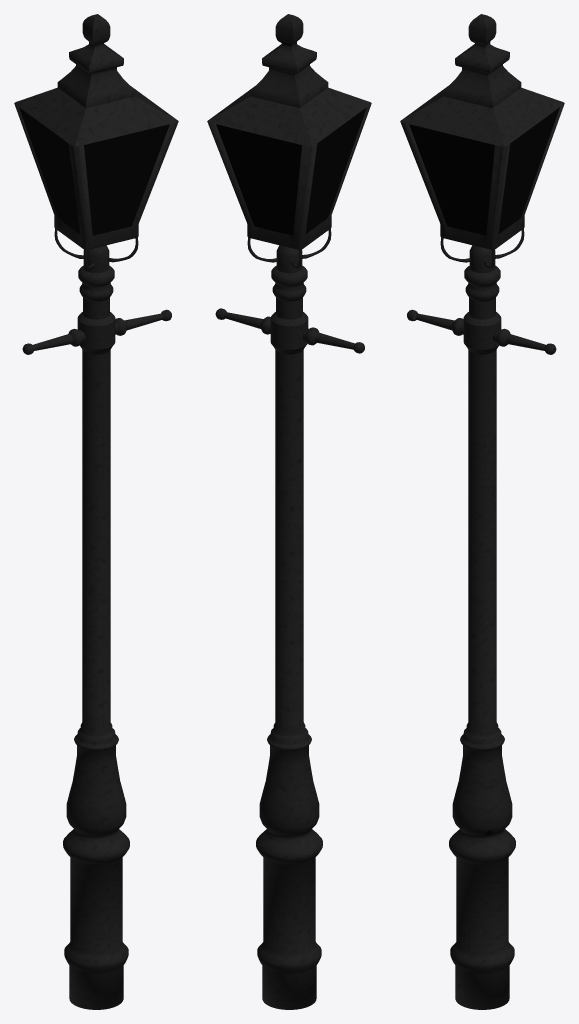
Rendered from lamp.obj.
3 renders of one model, left to right at view 1: azimuth 30°, elevation 25°; view 2: azimuth 150°, elevation 25°; view 3: azimuth 330°, elevation 25°, orthographic.
Visible parts, largest first — view 1: Old_English_Street_Lamp; view 2: Old_English_Street_Lamp; view 3: Old_English_Street_Lamp.
Boxes of the visible parts, x1,y1,x2,y2 form: Old_English_Street_Lamp: (14, 14, 178, 1009); Old_English_Street_Lamp: (207, 14, 371, 1009); Old_English_Street_Lamp: (400, 14, 564, 1009).
Size of the model in its own units: 1.41 by 9.05 by 1.02.
Materials: 1 (1 with a texture image).
